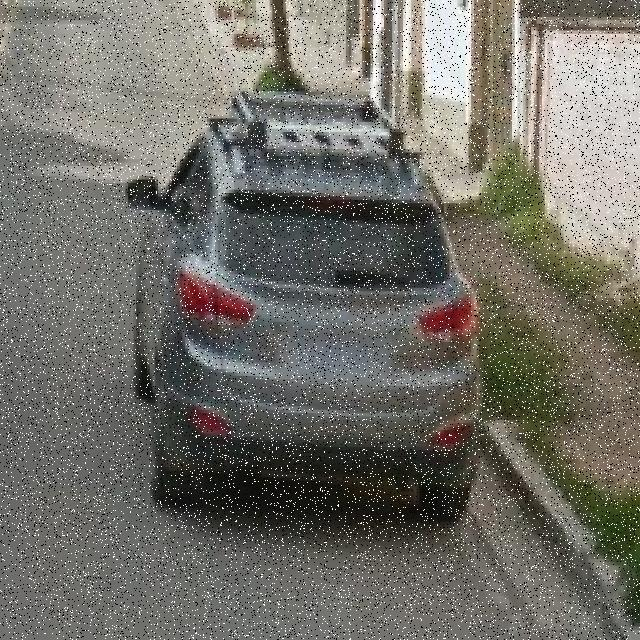cars: (127, 96, 488, 525)
